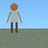person: (7, 3, 22, 32)
